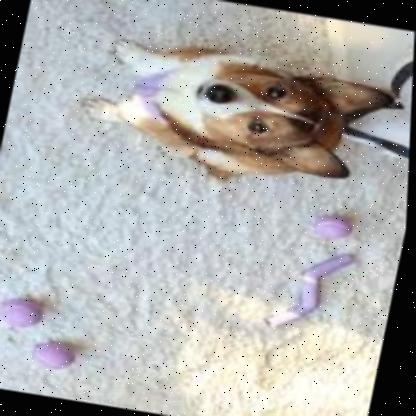dog: (66, 25, 411, 206)
